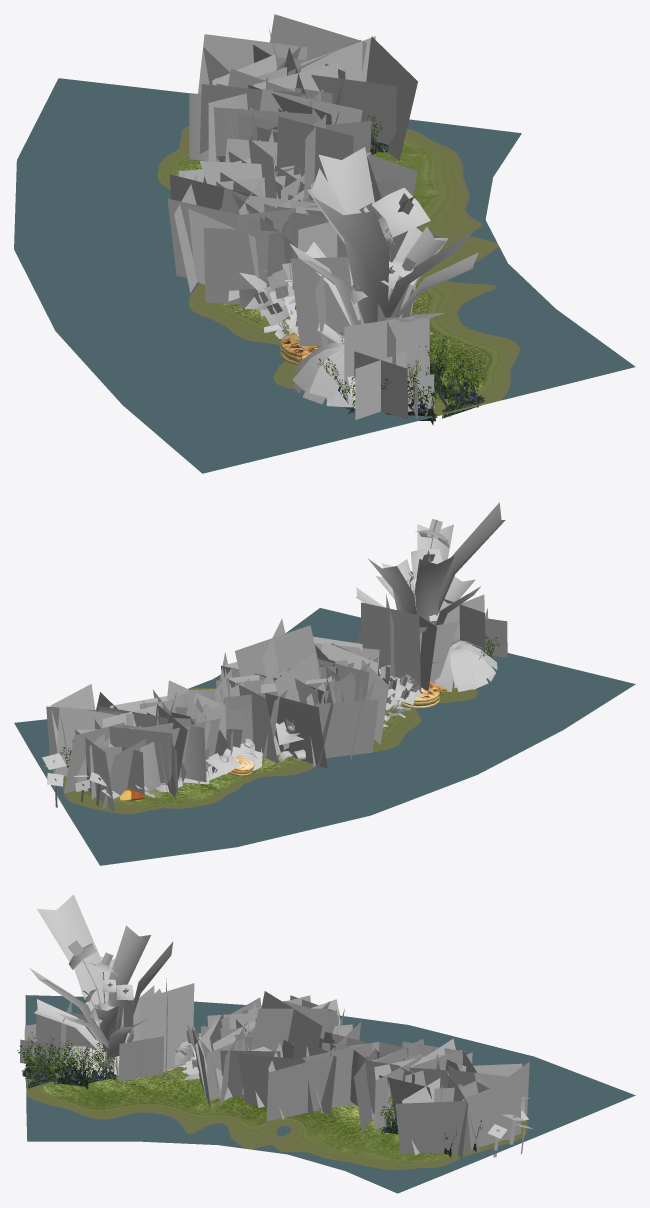
The model's file is Sc08_road_b.fbx.
The picture shows the model from 3 angles, top to bottom: view 1: azimuth 30°, elevation 25°; view 2: azimuth 150°, elevation 25°; view 3: azimuth 270°, elevation 25°; orthographic projection. The views are drawn at different scales.
Parts seen in each view (by area): view 1: rd_b, bush_b, h04_b, h02_b, Crackers_b; view 2: rd_b, bush_b, h04_b, h02_b, Crackers_b; view 3: rd_b, bush_b, h04_b, h02_b.
Boxes of the visible parts, left/top/right/bottom form: rd_b: left=14, top=78, right=635, bottom=473; bush_b: left=167, top=14, right=485, bottom=425; h04_b: left=199, top=114, right=434, bottom=420; h02_b: left=216, top=147, right=478, bottom=343; Crackers_b: left=280, top=332, right=321, bottom=364; rd_b: left=14, top=608, right=635, bottom=865; bush_b: left=46, top=629, right=500, bottom=813; h04_b: left=42, top=594, right=507, bottom=807; h02_b: left=155, top=502, right=505, bottom=791; Crackers_b: left=119, top=682, right=447, bottom=800; rd_b: left=25, top=995, right=635, bottom=1193; bush_b: left=17, top=995, right=529, bottom=1160; h04_b: left=20, top=978, right=533, bottom=1157; h02_b: left=29, top=894, right=207, bottom=1079.
Bounding box in the file's own units: 411 × 160 × 544.
